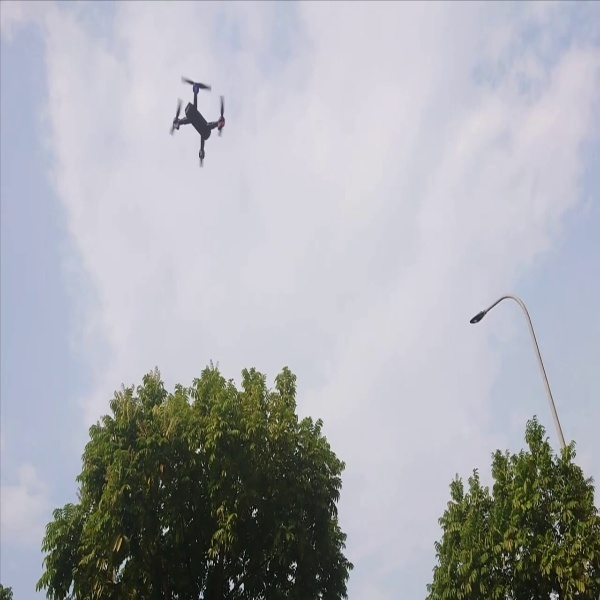drone: (161, 67, 236, 167)
